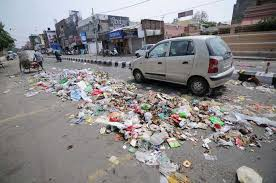garbage: (136, 99, 276, 152), (104, 85, 182, 148), (111, 94, 187, 138), (76, 81, 140, 125), (36, 72, 111, 92)
